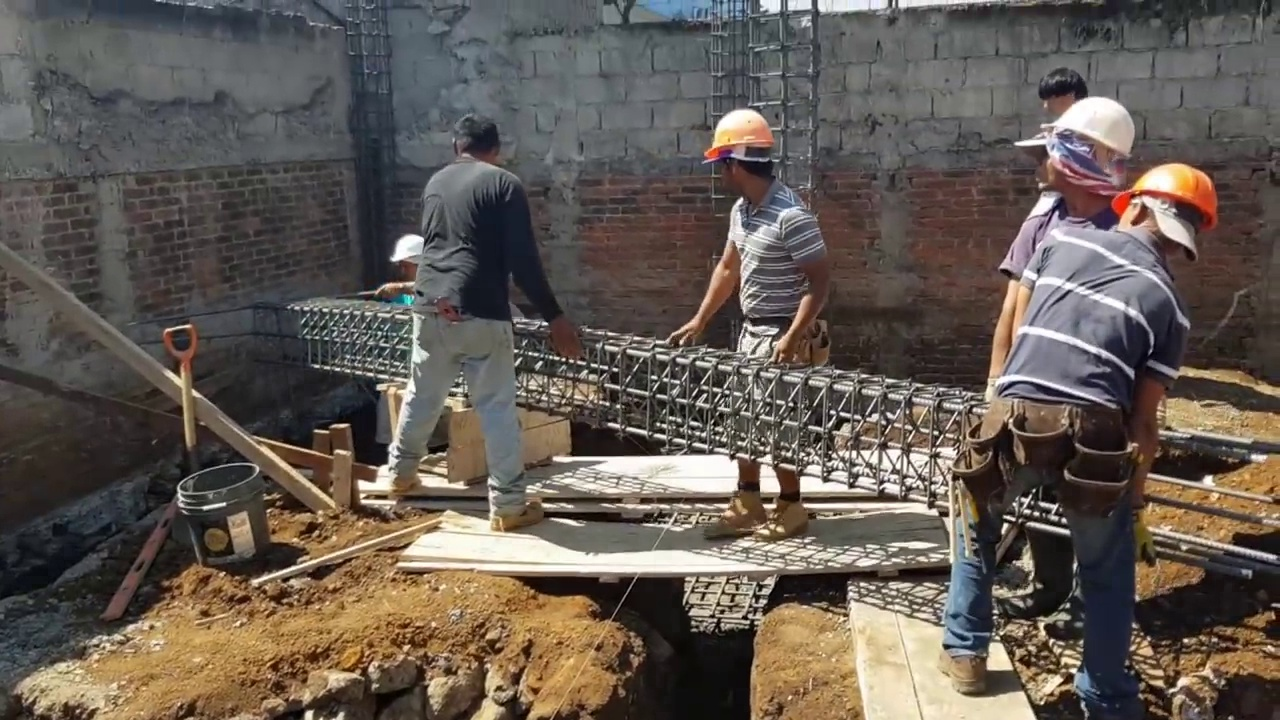helmet: (1122, 163, 1220, 235), (1012, 102, 1137, 153), (702, 106, 777, 159), (386, 238, 425, 262)
helmet-off: (451, 115, 502, 168), (1040, 68, 1090, 120)
helmet-on: (1113, 151, 1223, 266), (1039, 99, 1144, 218), (700, 107, 783, 201), (386, 234, 425, 282)
person: (943, 118, 1230, 702), (376, 116, 589, 534), (673, 109, 820, 527)
